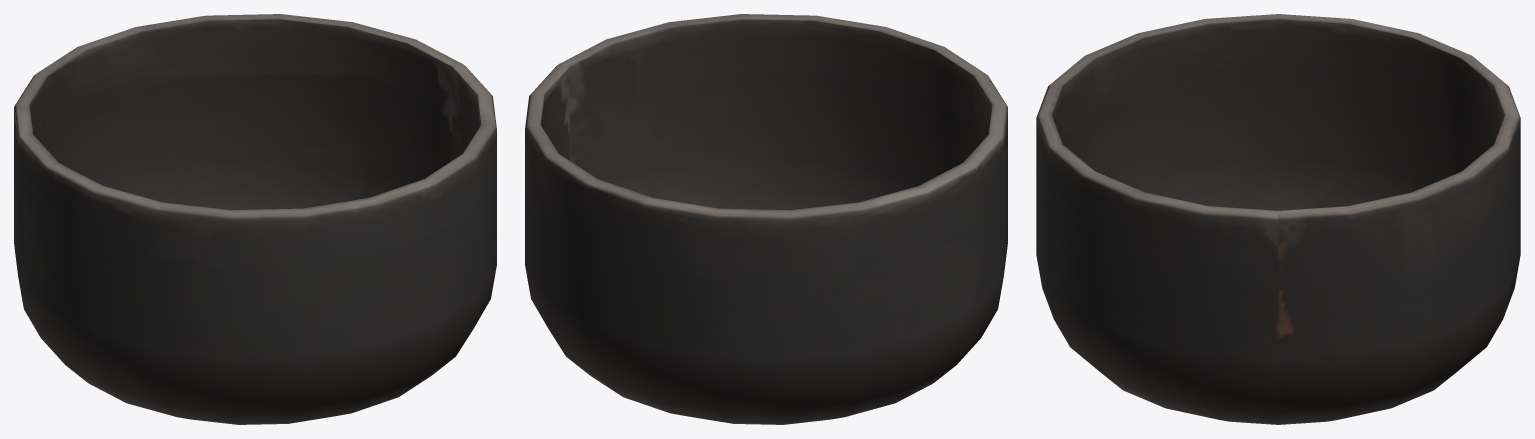
The model's file is SM_SaucePan_Black_Pot_01.fbx.
3 renders of one model, left to right at view 1: azimuth 30°, elevation 25°; view 2: azimuth 150°, elevation 25°; view 3: azimuth 270°, elevation 25°, orthographic.
Parts seen in each view (by area): view 1: SM_SaucePan_Black_Pot_01_LOD0; view 2: SM_SaucePan_Black_Pot_01_LOD0; view 3: SM_SaucePan_Black_Pot_01_LOD0.
Part boxes in pixels (x1,y1,x2,y2): SM_SaucePan_Black_Pot_01_LOD0: (14, 14, 496, 424); SM_SaucePan_Black_Pot_01_LOD0: (525, 14, 1007, 424); SM_SaucePan_Black_Pot_01_LOD0: (1036, 14, 1520, 424).
Bounding box in the file's own units: 28.76 × 28.76 × 16.27.
1 material, 1 textured.
